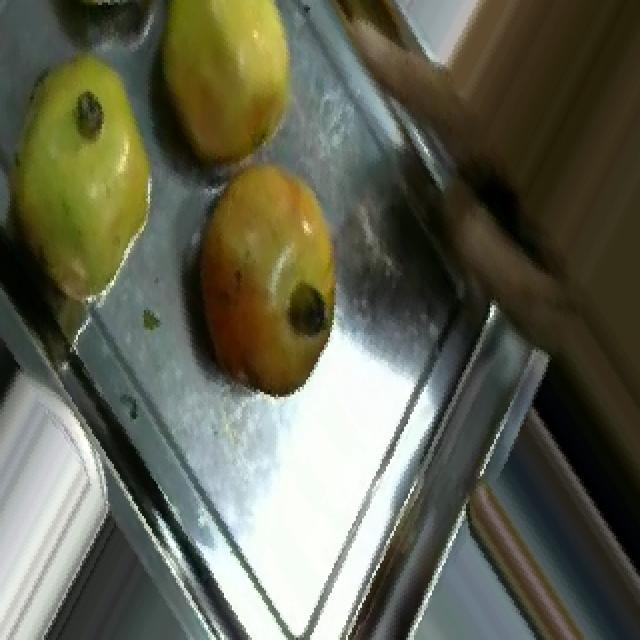fruit: (166, 136, 376, 426), (128, 0, 326, 189)
